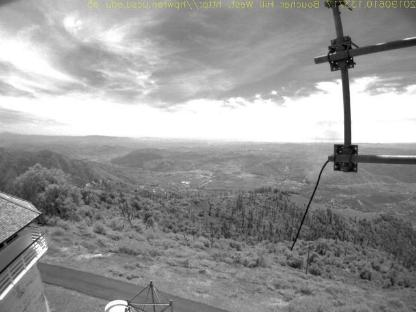smoke: (298, 116, 338, 186)
